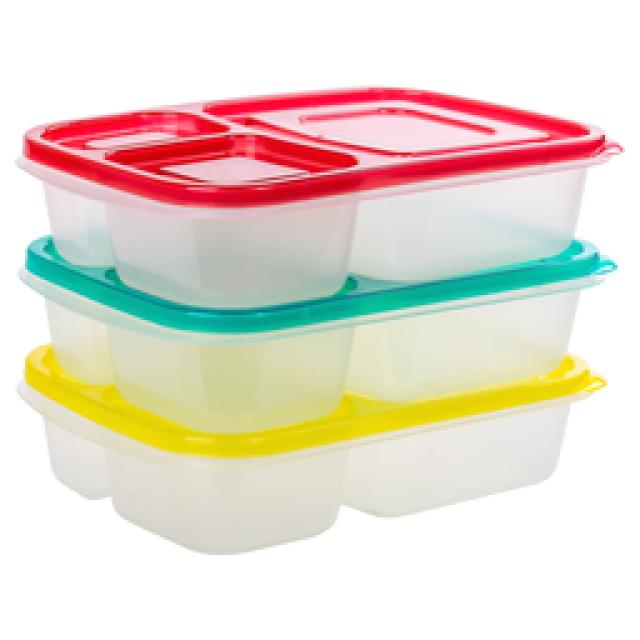plastik_botol: (22, 81, 623, 289), (27, 237, 607, 437), (33, 355, 610, 556)
